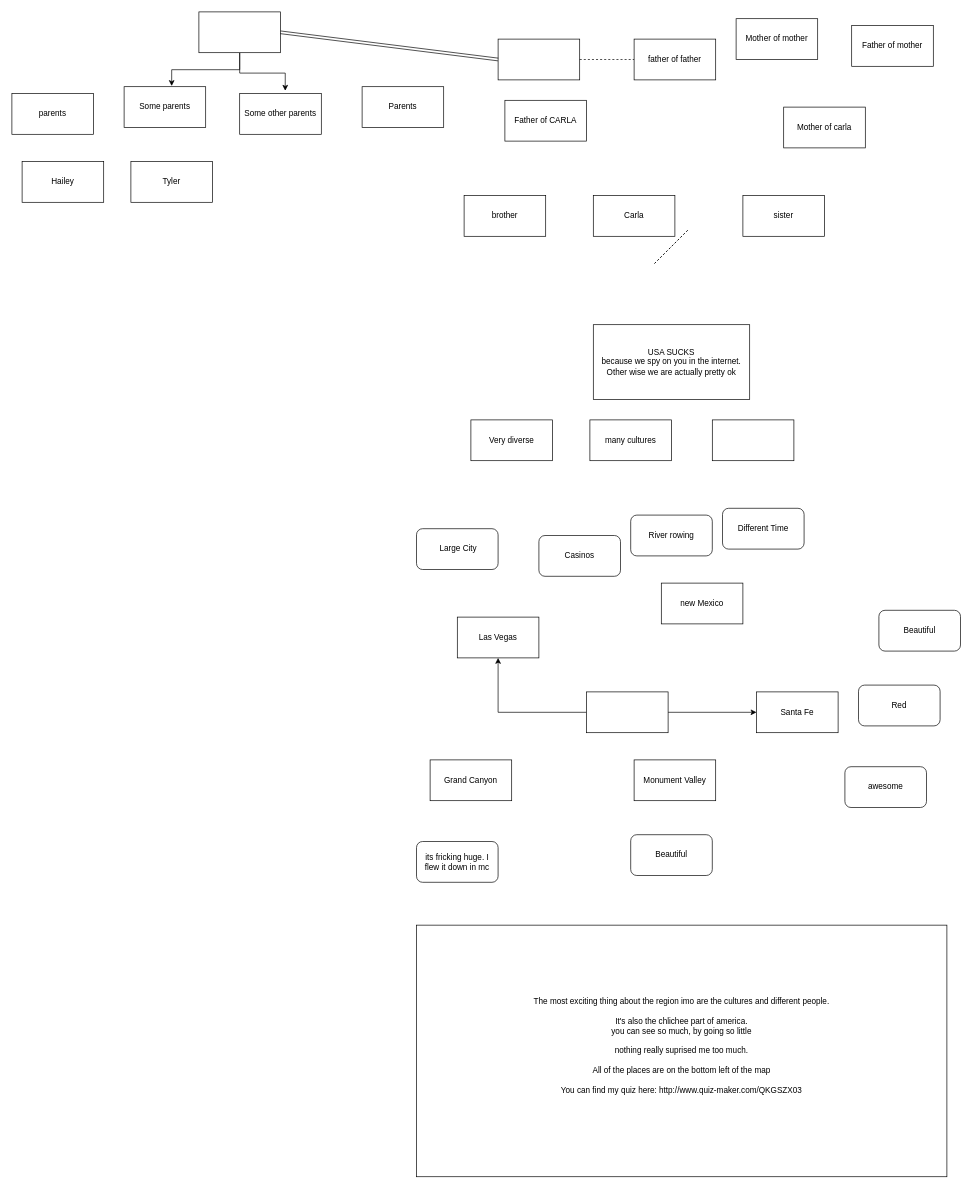
The diagram is 972 pixels wide and 1189 high, and some of its shapes have lost their labels. The centre of each missing label's shape, as x and y in pixels:
"Fernanda" goes at [538,59].
"In the southwest" goes at [627,712].
"Mark" goes at [239,32].
